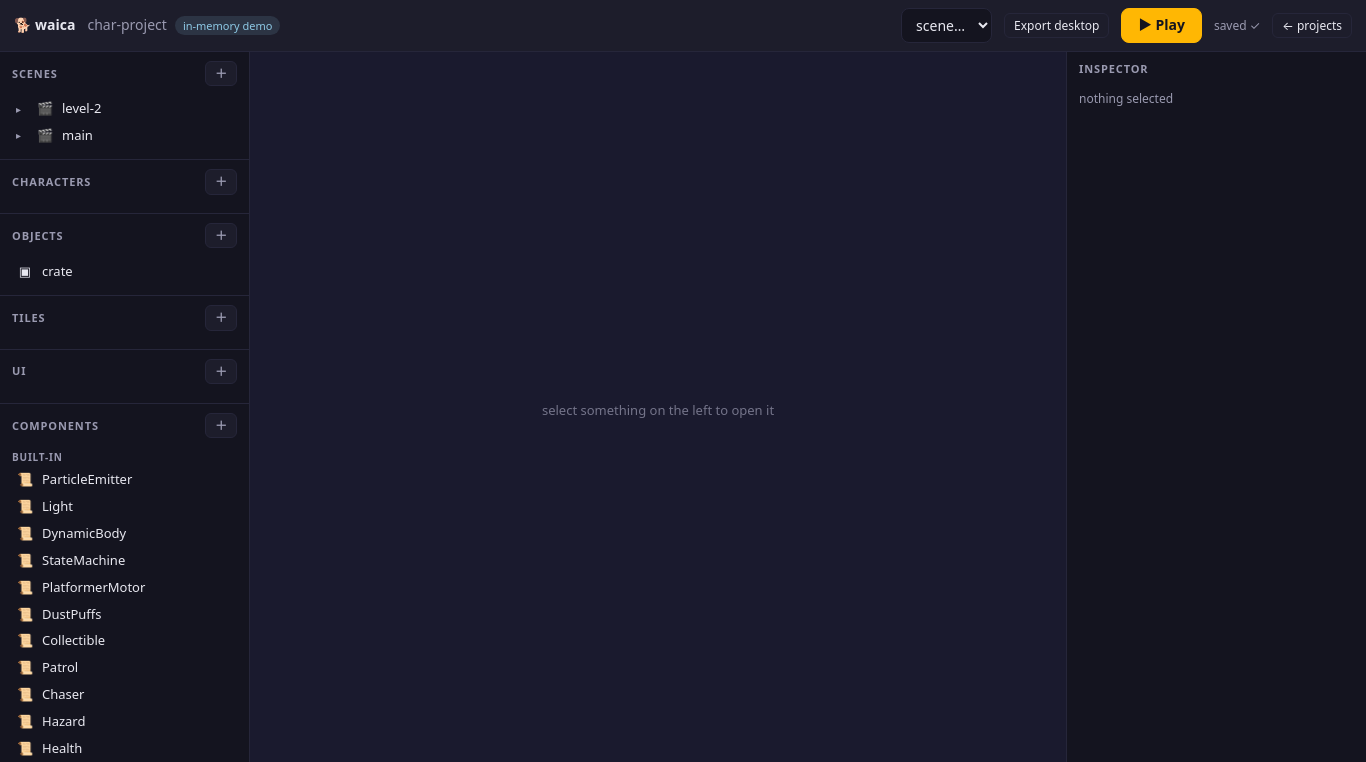
Scenario: the Export desktop button (issue 200 CA-23) › sits right after the scene picker and opens the export modal
This screenshot has width=1366, height=762.
Click the button "Export desktop".
click(1057, 26)  # box [1004, 13, 1110, 38]
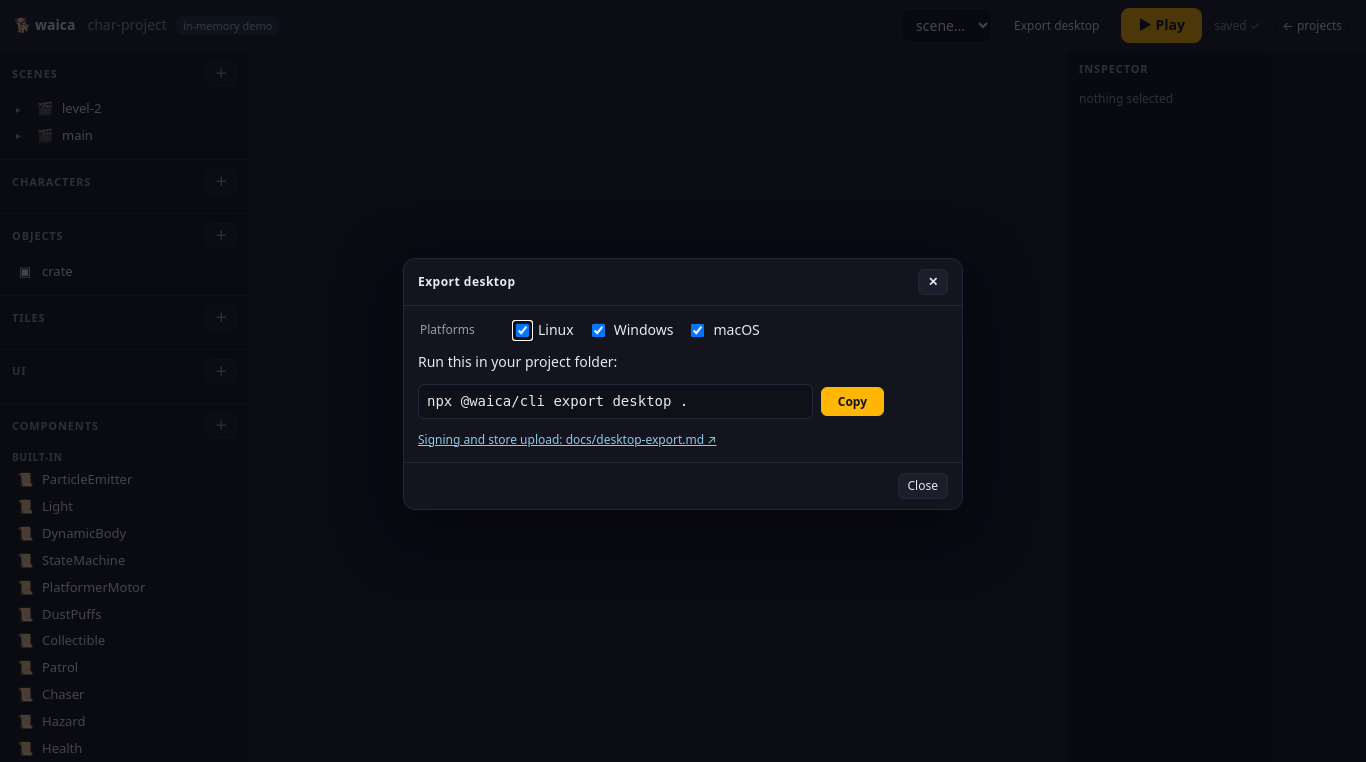
Now the dialog "Export desktop" is shown, box [403, 258, 963, 510]
